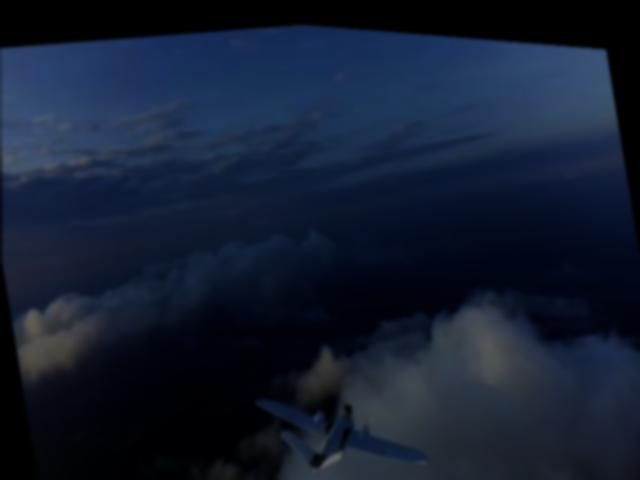uav: (252, 366, 434, 480)
